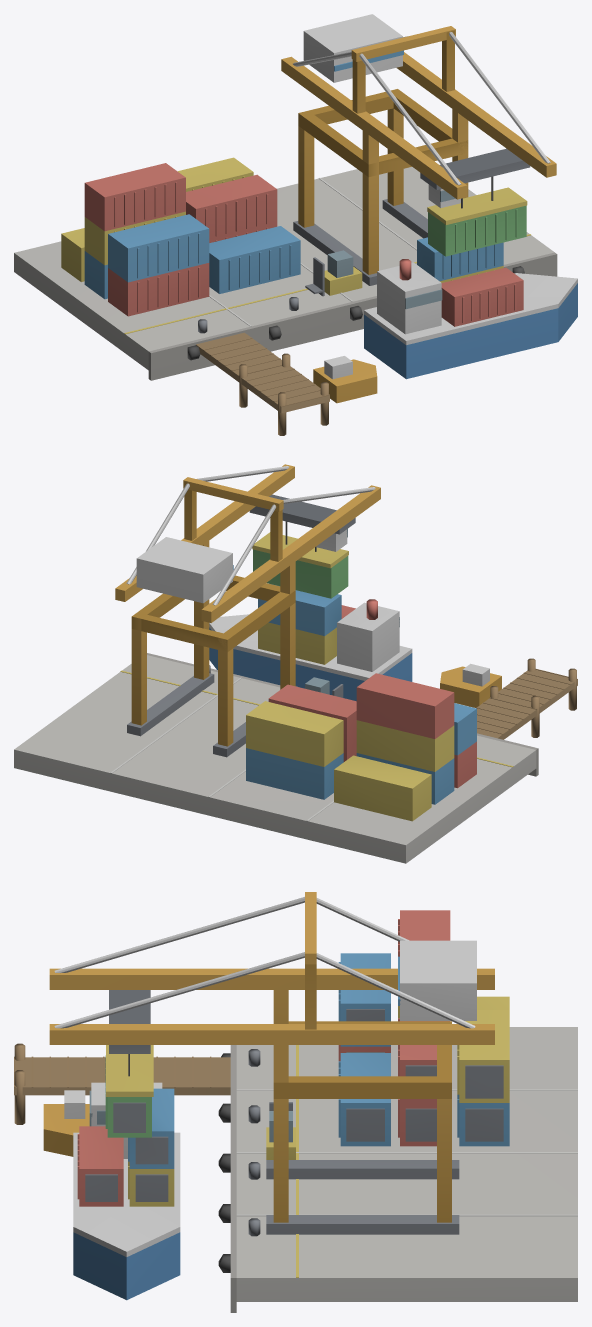
The model's file is port.glb.
3 renders of one model, top to bottom at view 1: azimuth 30°, elevation 25°; view 2: azimuth 150°, elevation 25°; view 3: azimuth 270°, elevation 25°, orthographic. The views are drawn at different scales.
Parts seen in each view (by area): view 1: port; view 2: port; view 3: port.
Part boxes in pixels (left/top/right/bottom): port: left=14, top=14, right=577, bottom=435; port: left=14, top=464, right=577, bottom=863; port: left=14, top=892, right=577, bottom=1312.
Size of the model in its own units: 2 by 1.19 by 1.9.
